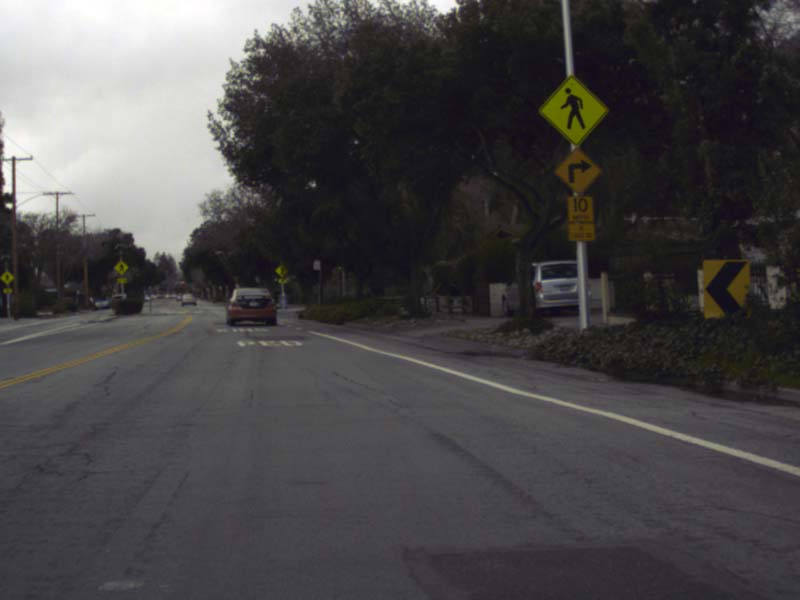Red: (191, 285, 195, 292), (181, 279, 185, 285)
